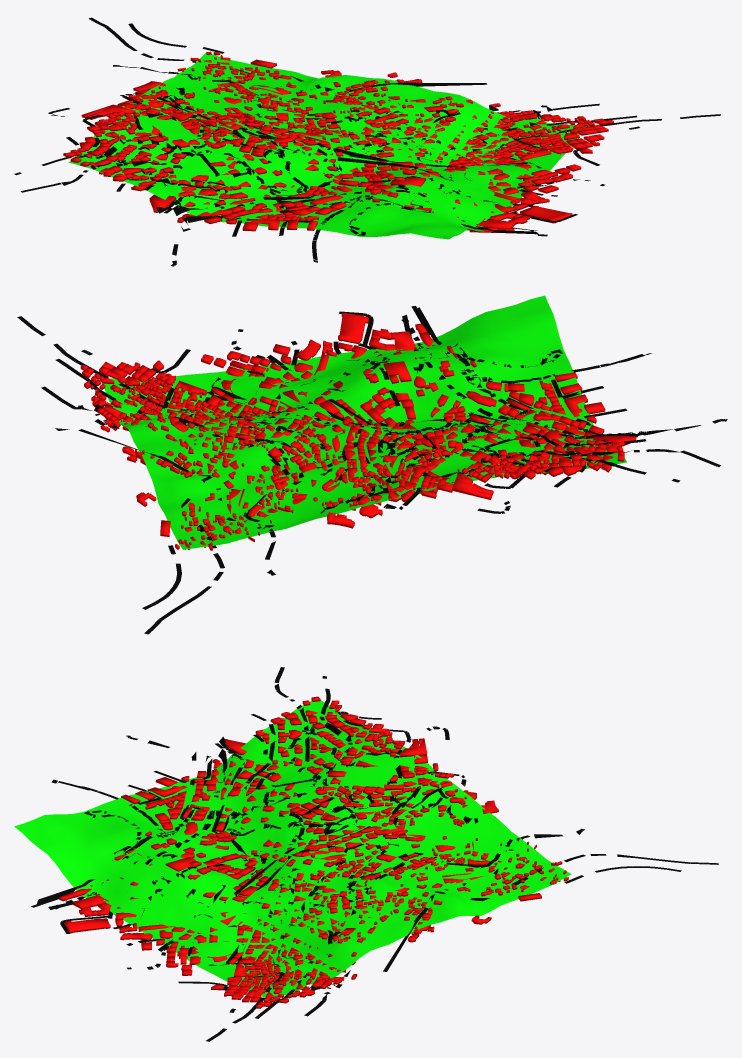
Rendered from TestFile1.dae.
3 renders of one model, top to bottom at view 1: azimuth 30°, elevation 25°; view 2: azimuth 150°, elevation 25°; view 3: azimuth 270°, elevation 25°, orthographic. The views are drawn at different scales.
Visible parts, largest first — view 1: 43; view 2: 43; view 3: 43.
Part boxes in pixels (x1,y1,x2,y2): 43: (14,17,720,266); 43: (17,295,727,634); 43: (14,667,718,1041).
Size of the model in its own units: 1.78 by 1.67 by 0.1963.
